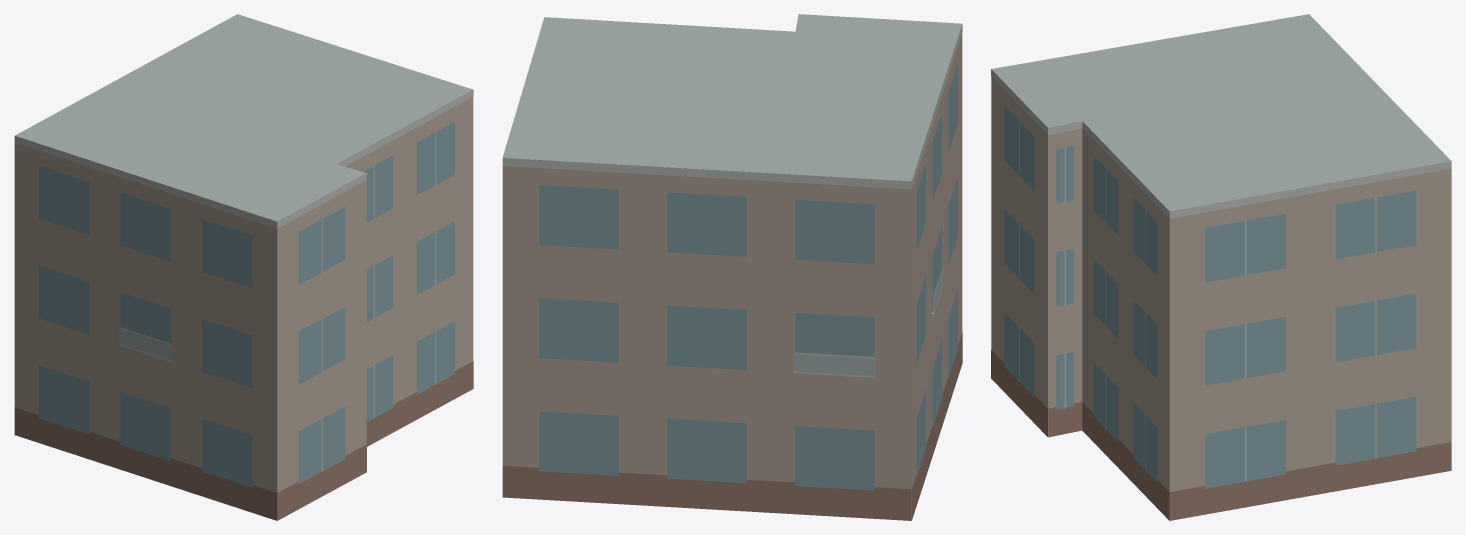
The model's file is survey-upis-32853058.glb.
3 renders of one model, left to right at view 1: azimuth 30°, elevation 25°; view 2: azimuth 150°, elevation 25°; view 3: azimuth 270°, elevation 25°, orthographic. The views are drawn at different scales.
Parts seen in each view (by area): view 1: survey-upis-32853058.tmp; view 2: survey-upis-32853058.tmp; view 3: survey-upis-32853058.tmp.
Part boxes in pixels (bbox=[...]): survey-upis-32853058.tmp: bbox=[14, 14, 473, 520]; survey-upis-32853058.tmp: bbox=[502, 14, 962, 520]; survey-upis-32853058.tmp: bbox=[991, 14, 1451, 520].
Bounding box in the file's own units: 14.1 × 10.3 × 13.9.
